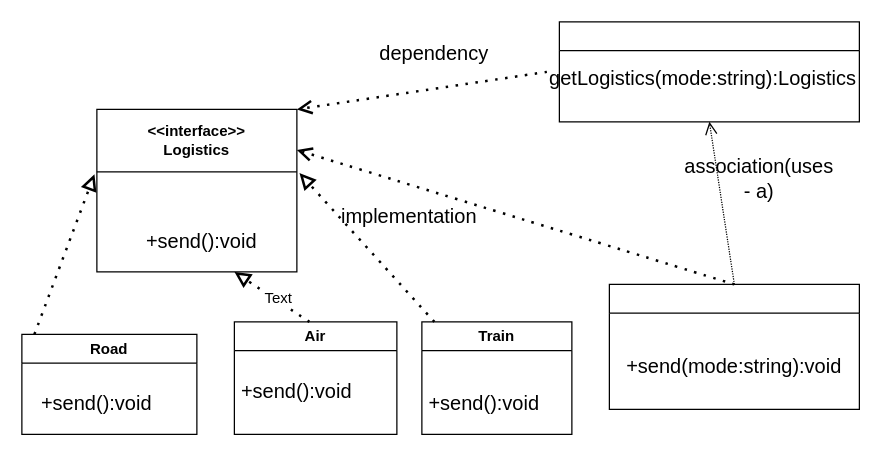
This 881x456 diagram has some shape labels left out. Here are the shapes that lost their labels. From the top down, the box of each, then its label:
(558, 21, 859, 122): LogisticsFactory
(608, 283, 859, 409): LogisticsService
